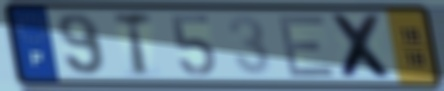3: (226, 13, 274, 79)
5: (167, 13, 219, 78)
9: (55, 11, 109, 78)
E: (274, 13, 338, 80)
T: (110, 10, 156, 79)
X: (327, 12, 400, 82)
